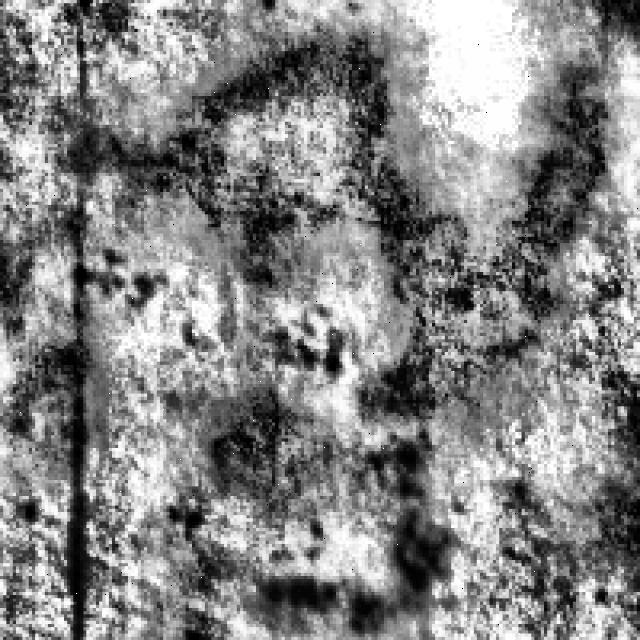Patches: (272, 470, 467, 621)
Scratches: (121, 16, 624, 416), (189, 381, 352, 634)
